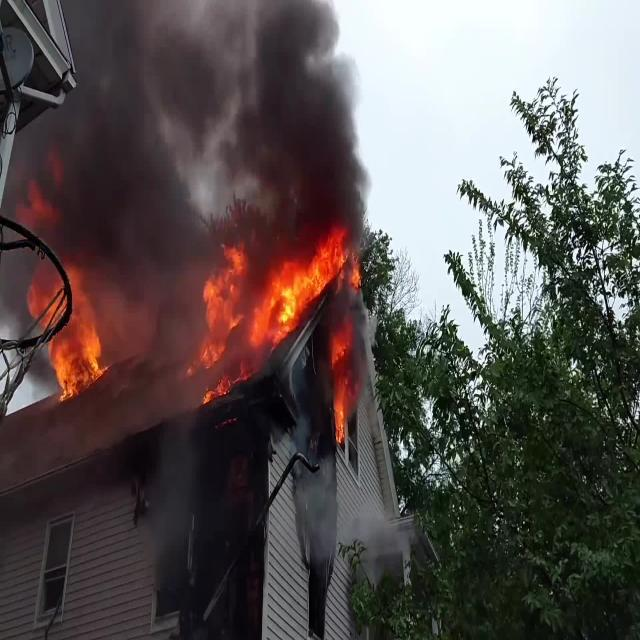Fire: (21, 229, 364, 442)
Smoke: (0, 0, 365, 434)
